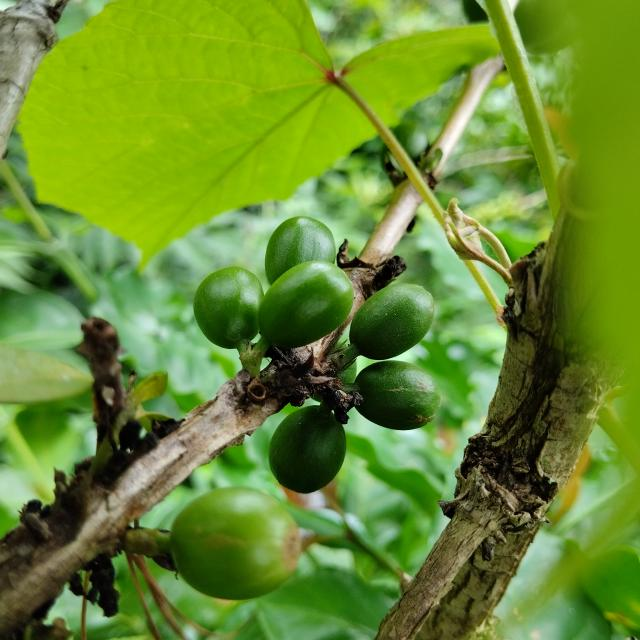green: (258, 261, 354, 348), (269, 404, 346, 494), (350, 283, 434, 360), (193, 267, 264, 352), (355, 361, 441, 431), (265, 216, 336, 285)
